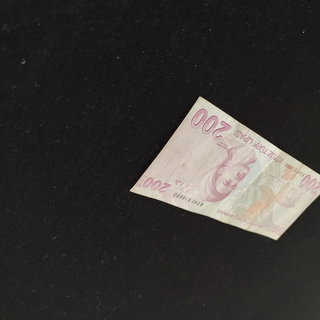200TLBack: (128, 95, 320, 242)
